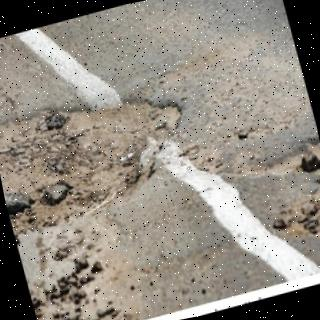pothole: (0, 94, 184, 241)
